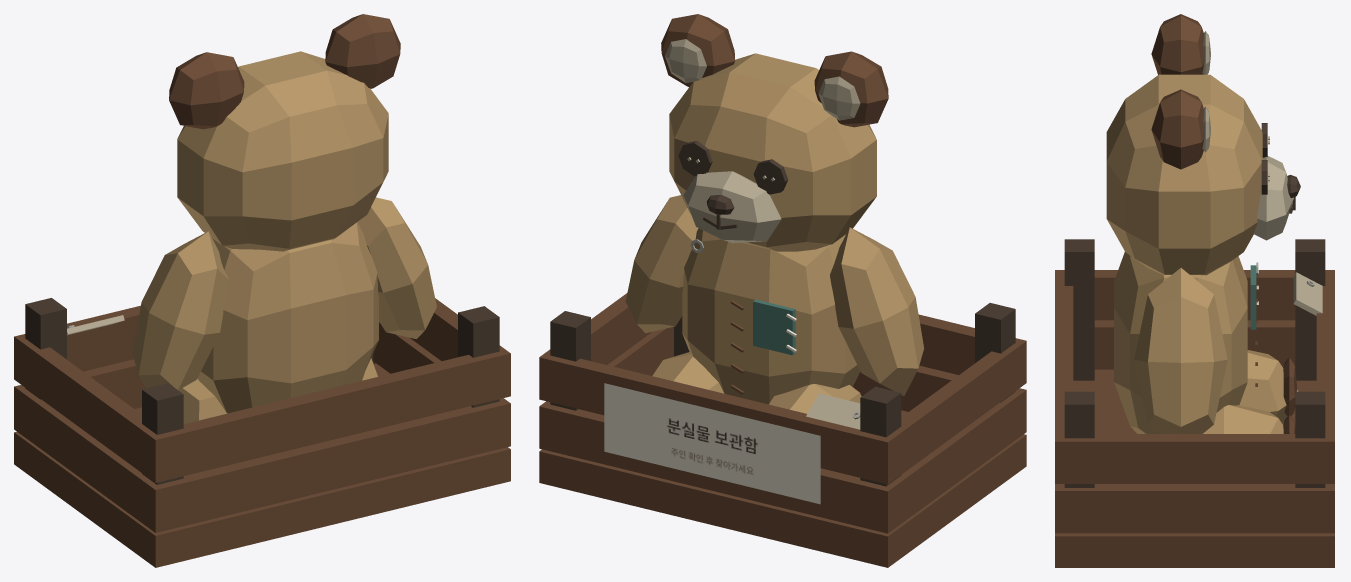
The model's file is C04_Unclaimed_Teddy_Box.fbx.
The picture shows the model from 3 angles, left to right: view 1: azimuth 30°, elevation 25°; view 2: azimuth 150°, elevation 25°; view 3: azimuth 270°, elevation 25°; orthographic projection.
Parts seen in each view (by area): view 1: Lost_Bear, Lost_Box; view 2: Lost_Bear, Lost_Box, Front_Lost_Box_Label, Detached_Name_Tag; view 3: Lost_Box, Lost_Bear, Detached_Name_Tag.
Part boxes in pixels (bbox=[...]): Lost_Bear: bbox=[132, 14, 436, 423]; Lost_Box: bbox=[14, 298, 510, 567]; Lost_Bear: bbox=[625, 14, 924, 413]; Lost_Box: bbox=[539, 293, 1026, 567]; Front_Lost_Box_Label: bbox=[604, 383, 820, 504]; Detached_Name_Tag: bbox=[806, 393, 860, 429]; Lost_Box: bbox=[1055, 239, 1334, 567]; Lost_Bear: bbox=[1106, 14, 1300, 433]; Detached_Name_Tag: bbox=[1293, 272, 1322, 315].
Size of the model in its own units: 0.58 by 0.6883 by 0.403.
Materials: 8 (1 with a texture image).
